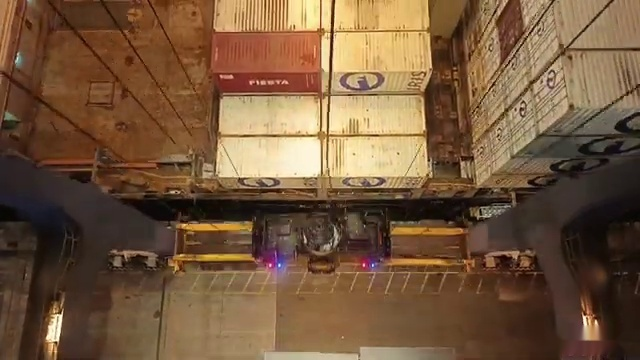container: (211, 33, 433, 94), (217, 137, 432, 191), (217, 95, 427, 136), (208, 2, 436, 32), (211, 0, 434, 21), (213, 0, 436, 21), (213, 0, 437, 17)
guide_mark: (75, 340, 550, 360), (115, 275, 542, 295)
spreader: (165, 208, 477, 279)
target_slot: (210, 30, 434, 92)
